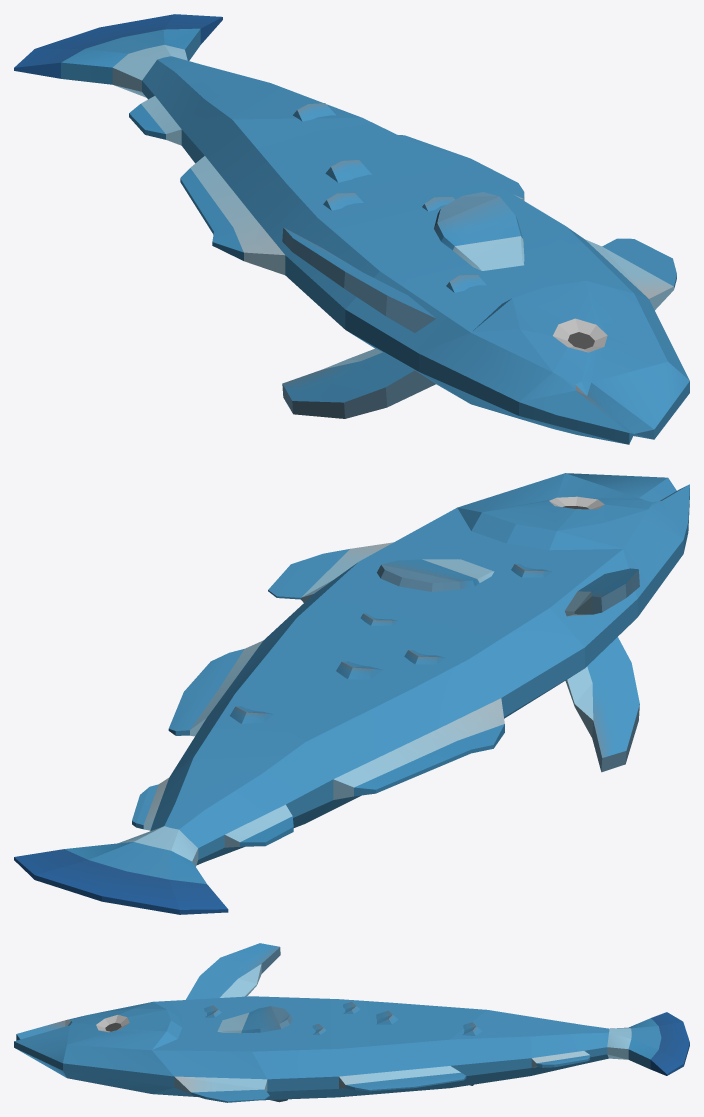
File: fish_12.FBX
The picture shows the model from 3 angles, top to bottom: view 1: azimuth 30°, elevation 25°; view 2: azimuth 150°, elevation 25°; view 3: azimuth 270°, elevation 25°; orthographic projection. The views are drawn at different scales.
Parts seen in each view (by area): view 1: fish_12; view 2: fish_12; view 3: fish_12.
Boxes of the visible parts, box(x1,y1,x2,y2) form: fish_12: box(14, 14, 689, 444); fish_12: box(14, 473, 689, 914); fish_12: box(14, 943, 689, 1102).
Size of the model in its own units: 17.72 by 8.42 by 47.99.
